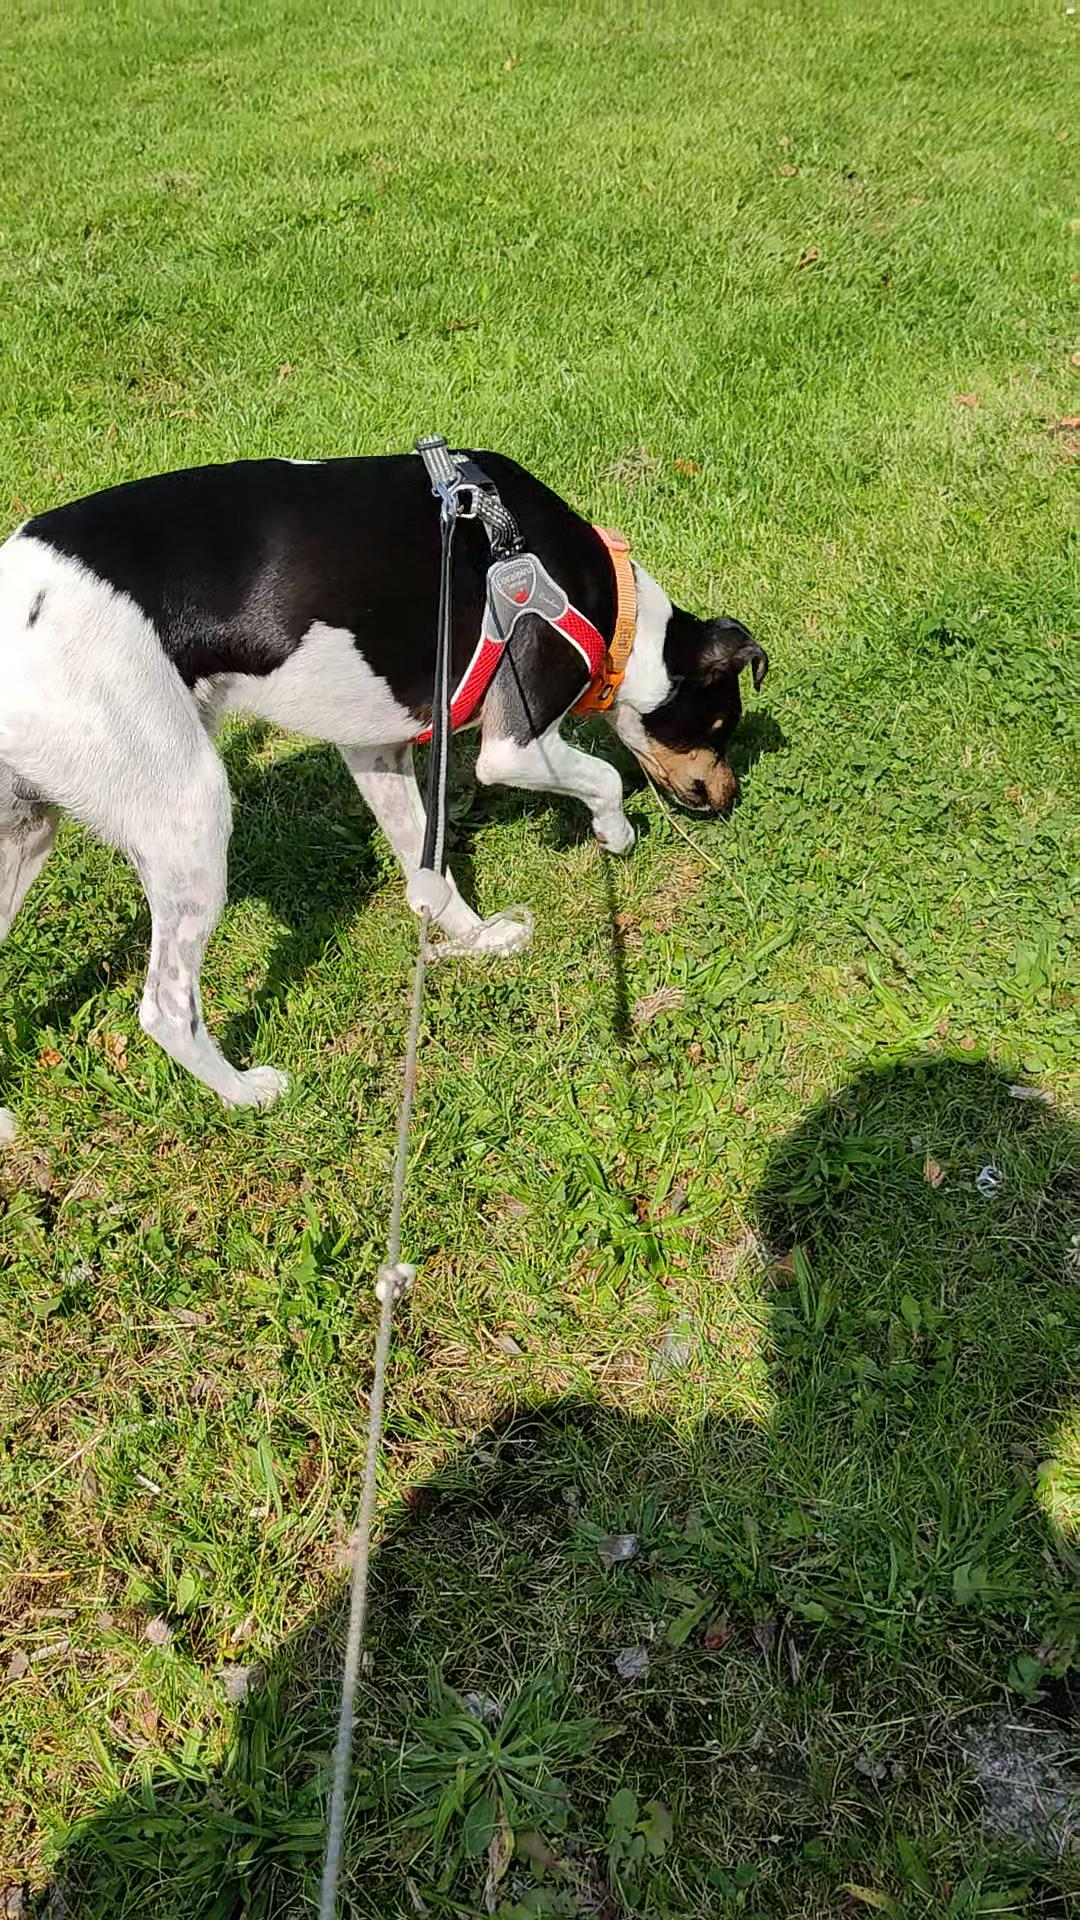Dog: (0, 423, 781, 1131)
